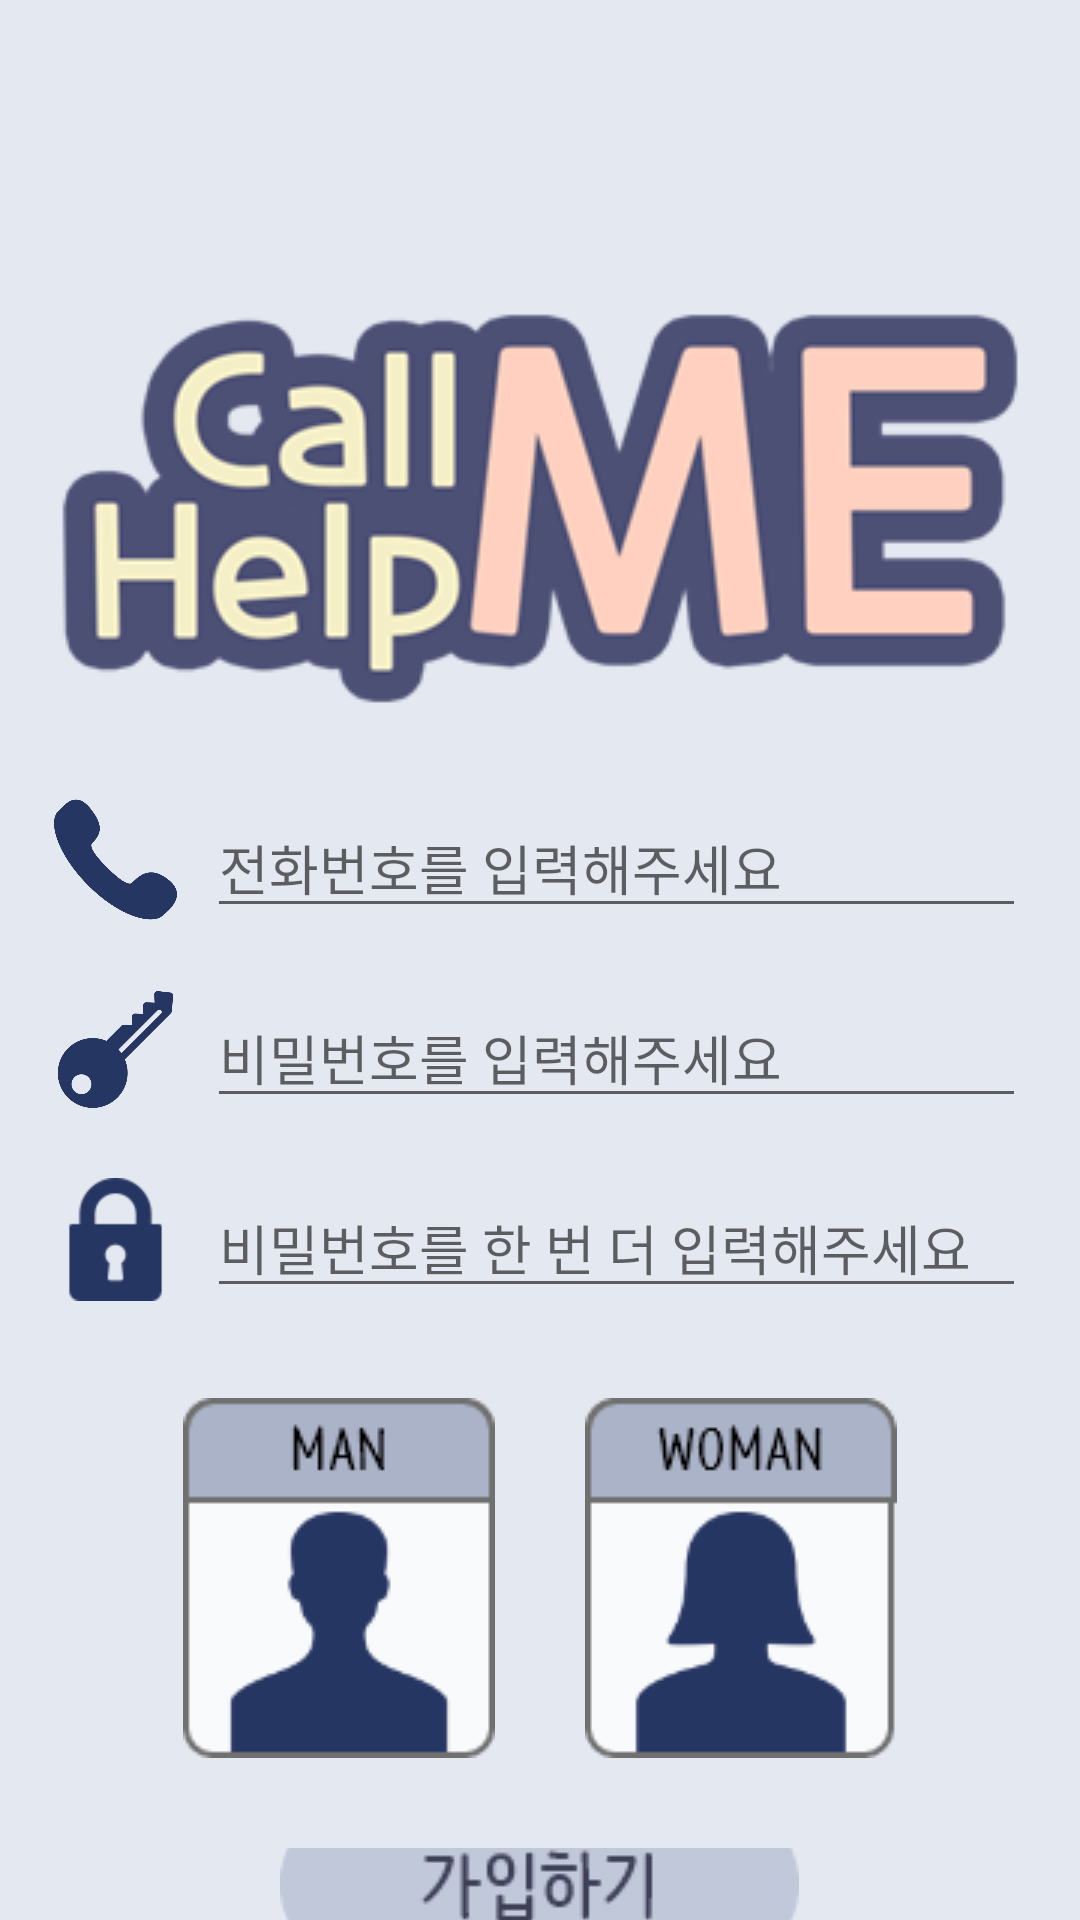

Icon click points for this 1080px×1920px phone screenshot, format point (x, y):
call: point (115, 859)
key: point (115, 1049)
lock: point (115, 1239)
